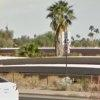Palm tree: (41, 0, 86, 57)
